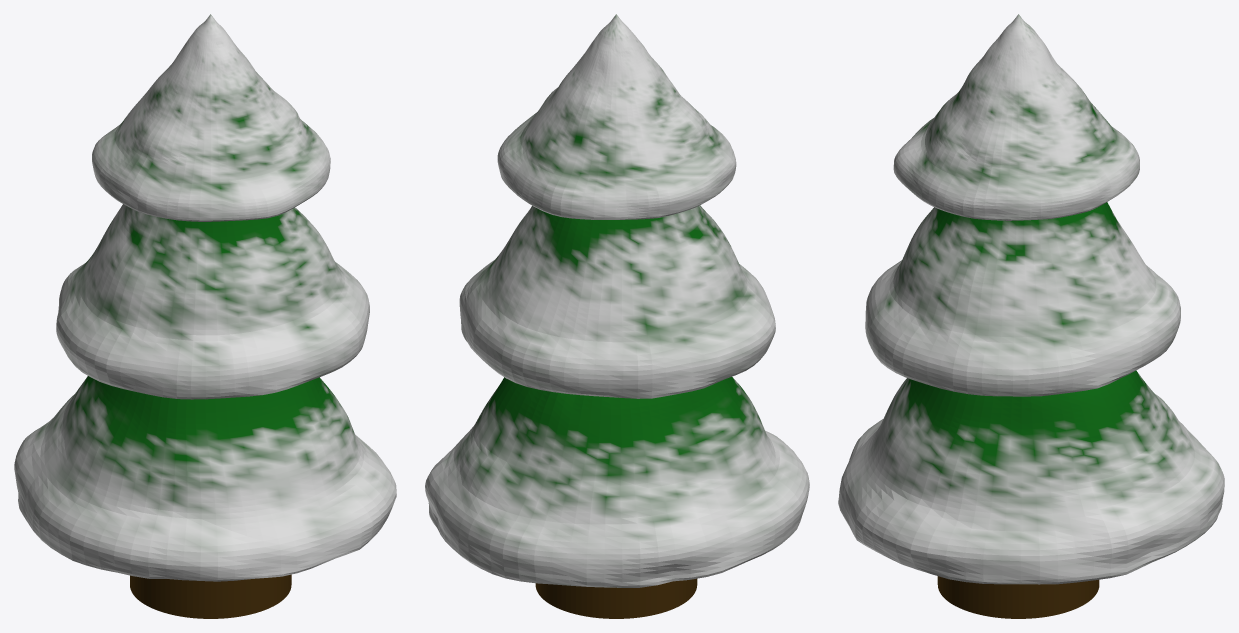
The model's file is tree_3.glb.
3 views of the same model, side by side, from view 1: azimuth 30°, elevation 25°; view 2: azimuth 150°, elevation 25°; view 3: azimuth 270°, elevation 25° (orthographic).
Visible parts, largest first — view 1: Cone 2; view 2: Cone 2; view 3: Cone 2.
Part boxes in pixels (box(x1,y1,x2,y2)): Cone 2: box(14, 14, 396, 618); Cone 2: box(425, 14, 809, 618); Cone 2: box(838, 14, 1224, 618).
Size of the model in its own units: 1.33 by 2.25 by 1.38.
